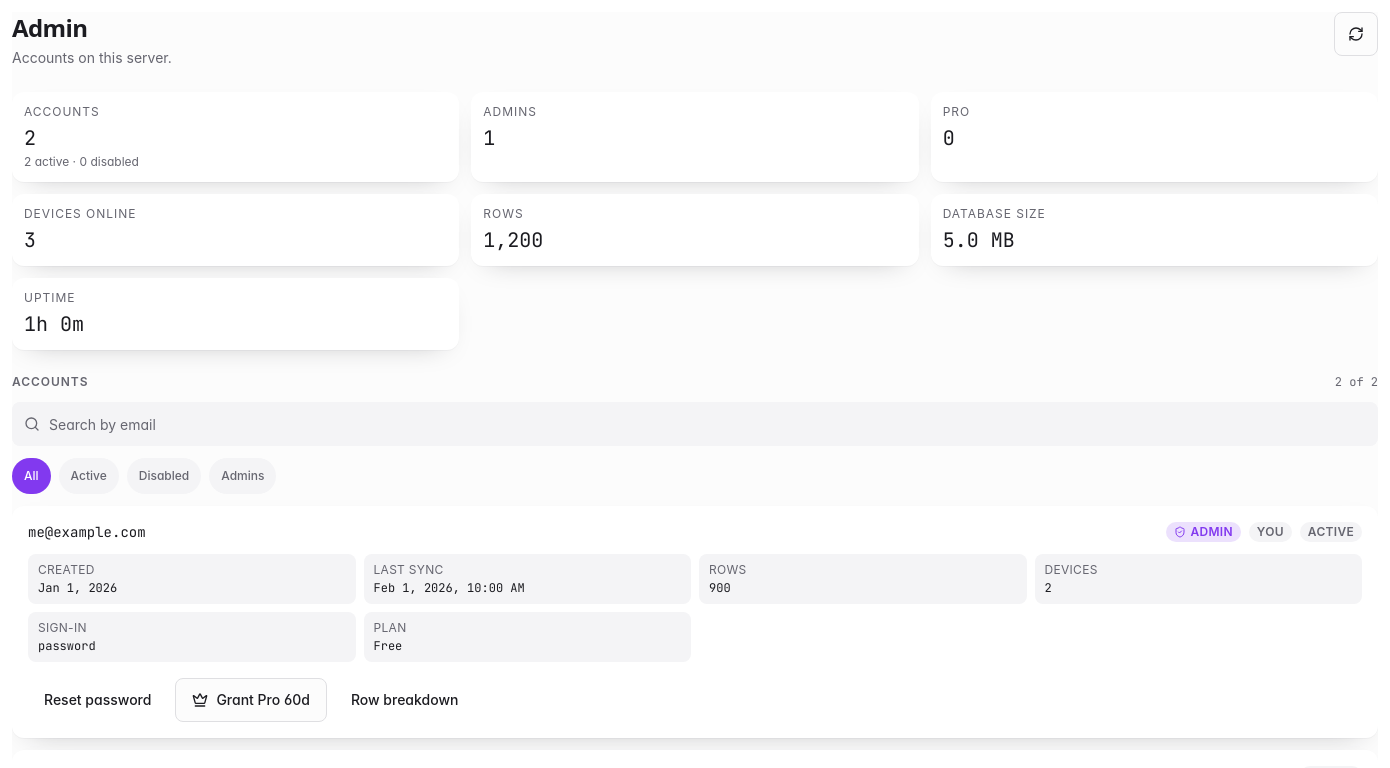
Test: AdminPage — αναζήτηση & φίλτρα › χωρίς αποτελέσματα προσφέρει καθαρισμό φίλτρων — όχι κενή οθόνη
Check: the text "2 of 2" is shown, box [1335, 374, 1378, 390]
Type "nobody" into the search field labelled "Search by email".
click(695, 424); type("nobody")  # box [12, 402, 1378, 446]
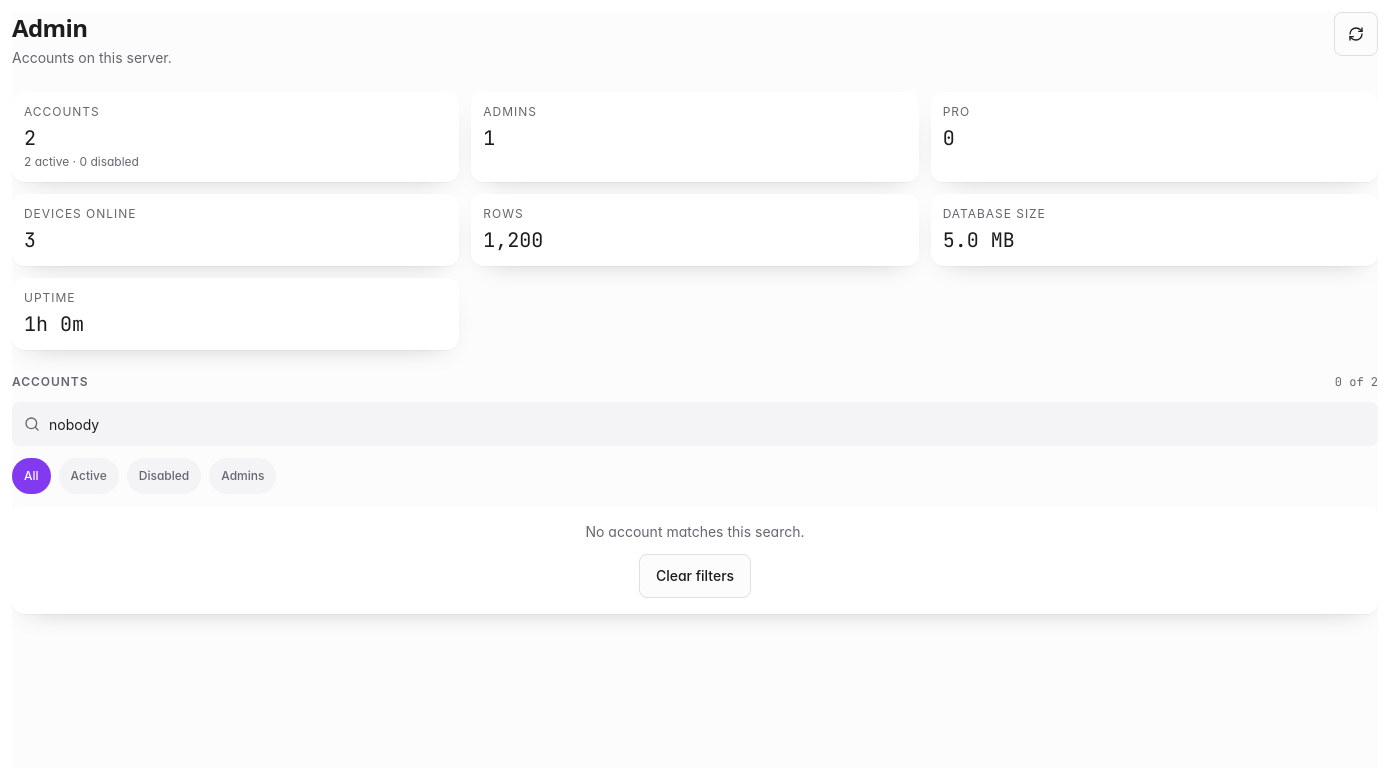
Check: the text "No account matches this search." is shown, box [586, 523, 804, 540]
Click the button "Clear filters".
click(695, 576)  # box [639, 554, 751, 598]
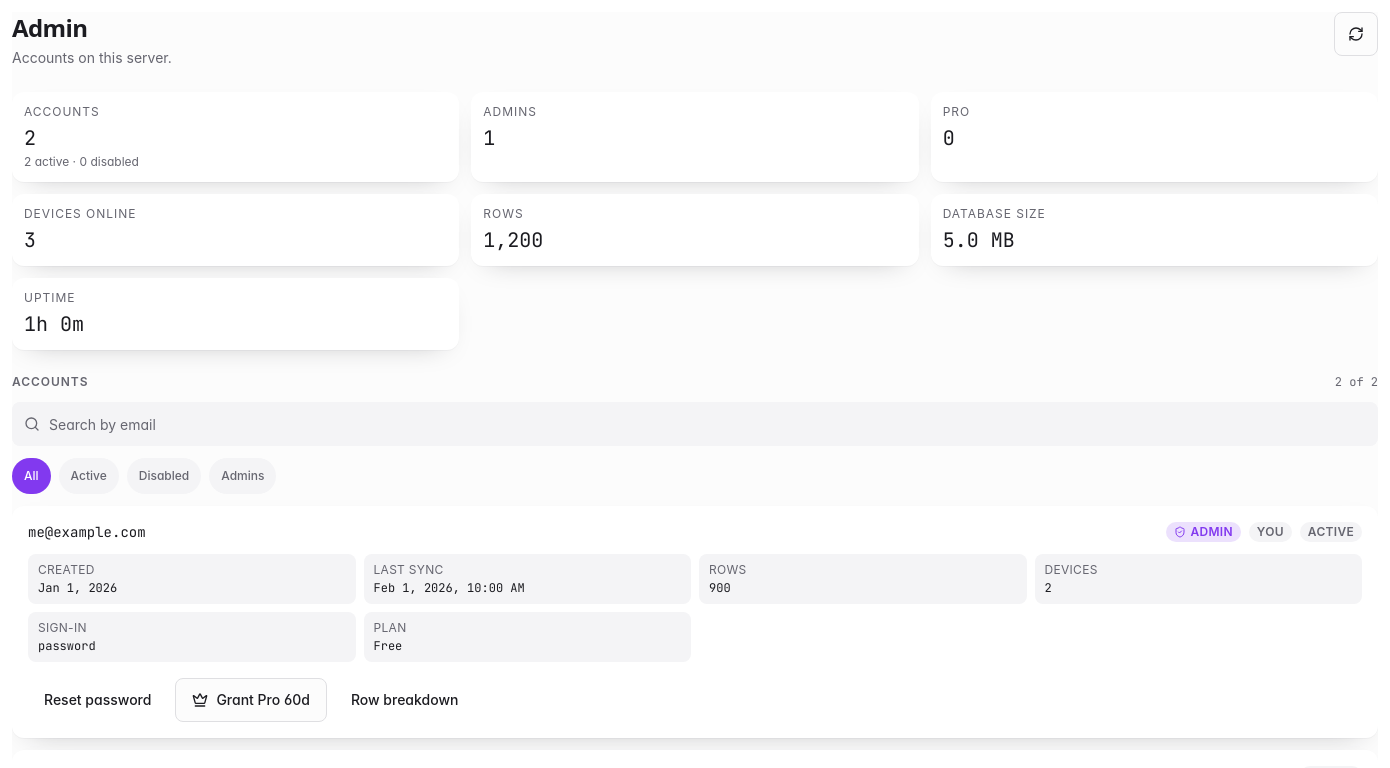
Check: the text "me@example.com" is shown, box [28, 523, 146, 541]
